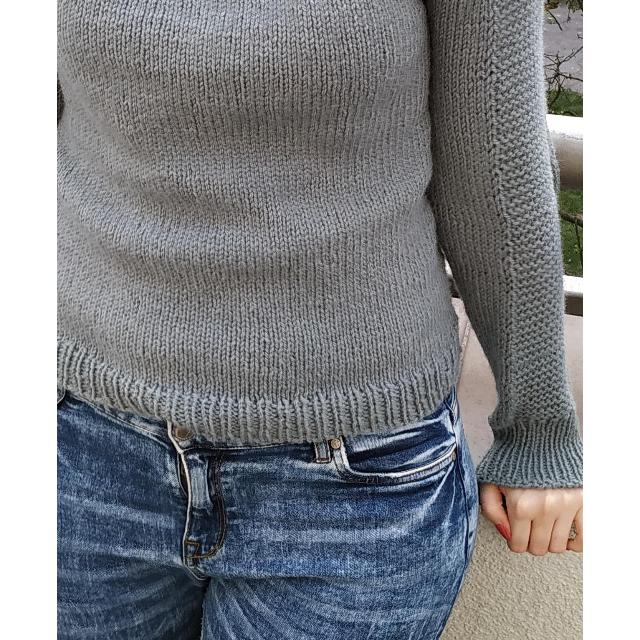wool: (58, 0, 580, 438)
